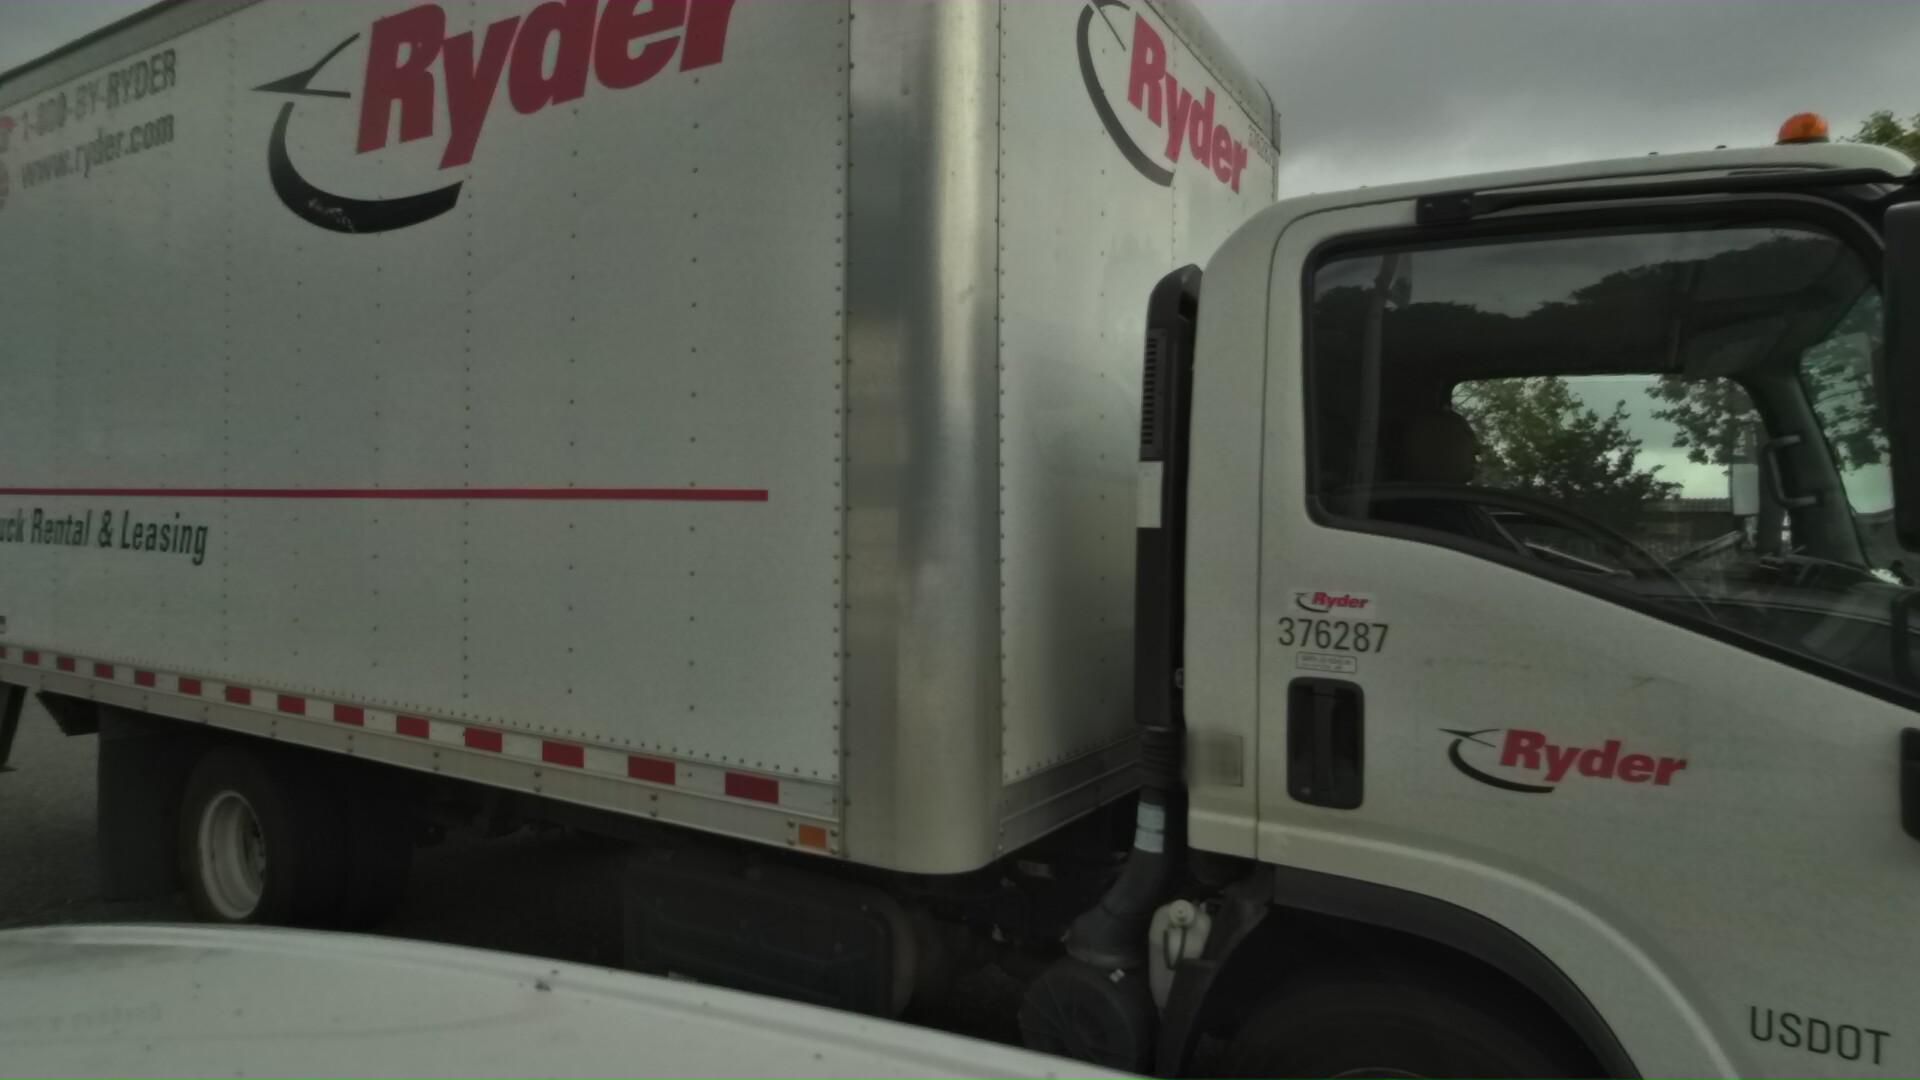car: (986, 530, 1621, 762), (0, 504, 225, 617), (1749, 587, 1920, 721), (0, 517, 66, 592)
truck: (0, 0, 1920, 1080)
